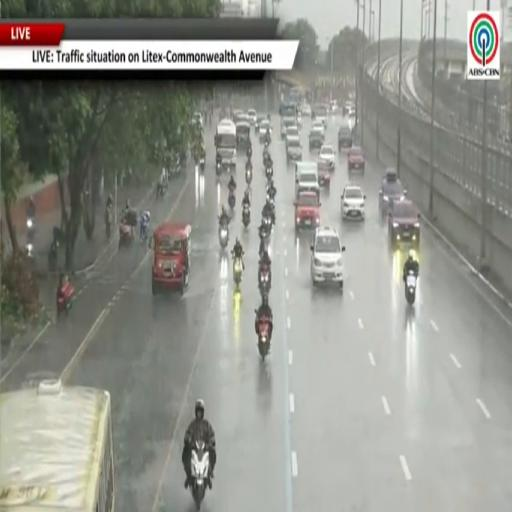bus: (0, 380, 114, 511), (215, 120, 236, 170), (289, 87, 302, 105)
car: (311, 227, 345, 289), (388, 199, 420, 248), (294, 191, 320, 230), (379, 180, 406, 212), (295, 163, 320, 197), (341, 185, 365, 219), (338, 121, 353, 151), (319, 144, 335, 170), (348, 147, 365, 171), (286, 136, 302, 161), (312, 104, 328, 127), (280, 117, 296, 139), (309, 130, 324, 151), (318, 162, 330, 188), (259, 119, 272, 141), (255, 115, 267, 133), (383, 168, 398, 182), (311, 120, 325, 135), (232, 108, 246, 122), (192, 111, 203, 126), (343, 101, 354, 116), (247, 109, 257, 125), (286, 125, 299, 137), (234, 112, 248, 123), (301, 104, 311, 117), (348, 106, 356, 120), (330, 100, 338, 114), (297, 110, 302, 127)
motorcycle: (191, 441, 209, 510), (57, 281, 74, 316), (258, 317, 270, 360), (405, 271, 417, 306), (119, 223, 135, 248), (259, 265, 271, 297), (48, 239, 58, 271), (262, 212, 274, 236), (233, 258, 242, 289), (259, 232, 269, 257), (105, 207, 112, 241), (219, 226, 229, 249), (262, 216, 272, 238), (27, 217, 35, 242), (242, 204, 250, 228), (157, 182, 167, 198), (228, 190, 236, 209), (244, 168, 252, 186), (141, 223, 148, 243), (265, 166, 273, 182), (26, 242, 33, 258), (263, 152, 270, 168), (199, 157, 205, 171), (216, 163, 221, 178), (247, 147, 252, 159)
